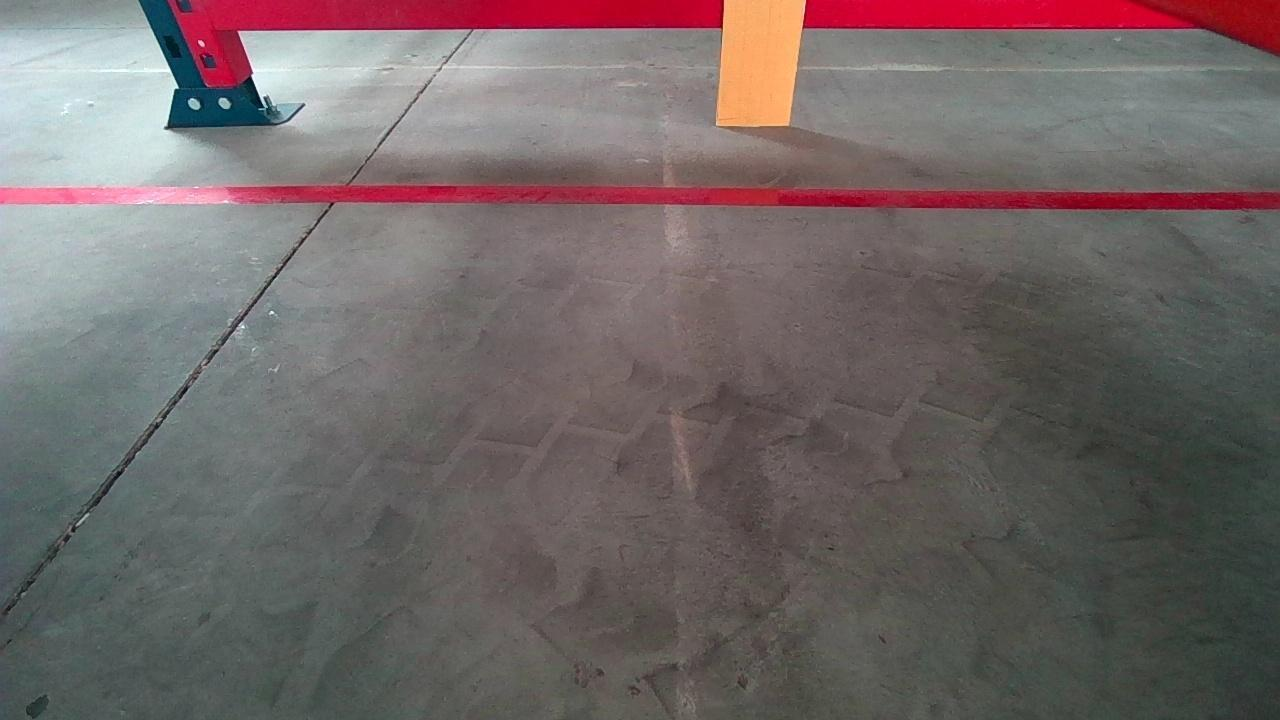h_rack: (212, 0, 1192, 28)
orange_strip: (715, 0, 803, 127)
red_line: (7, 179, 1274, 216)
